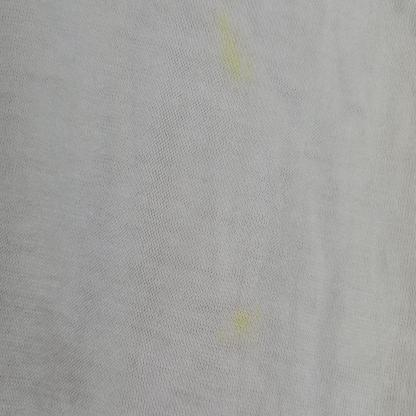spot: (214, 9, 258, 92), (218, 290, 274, 342)
